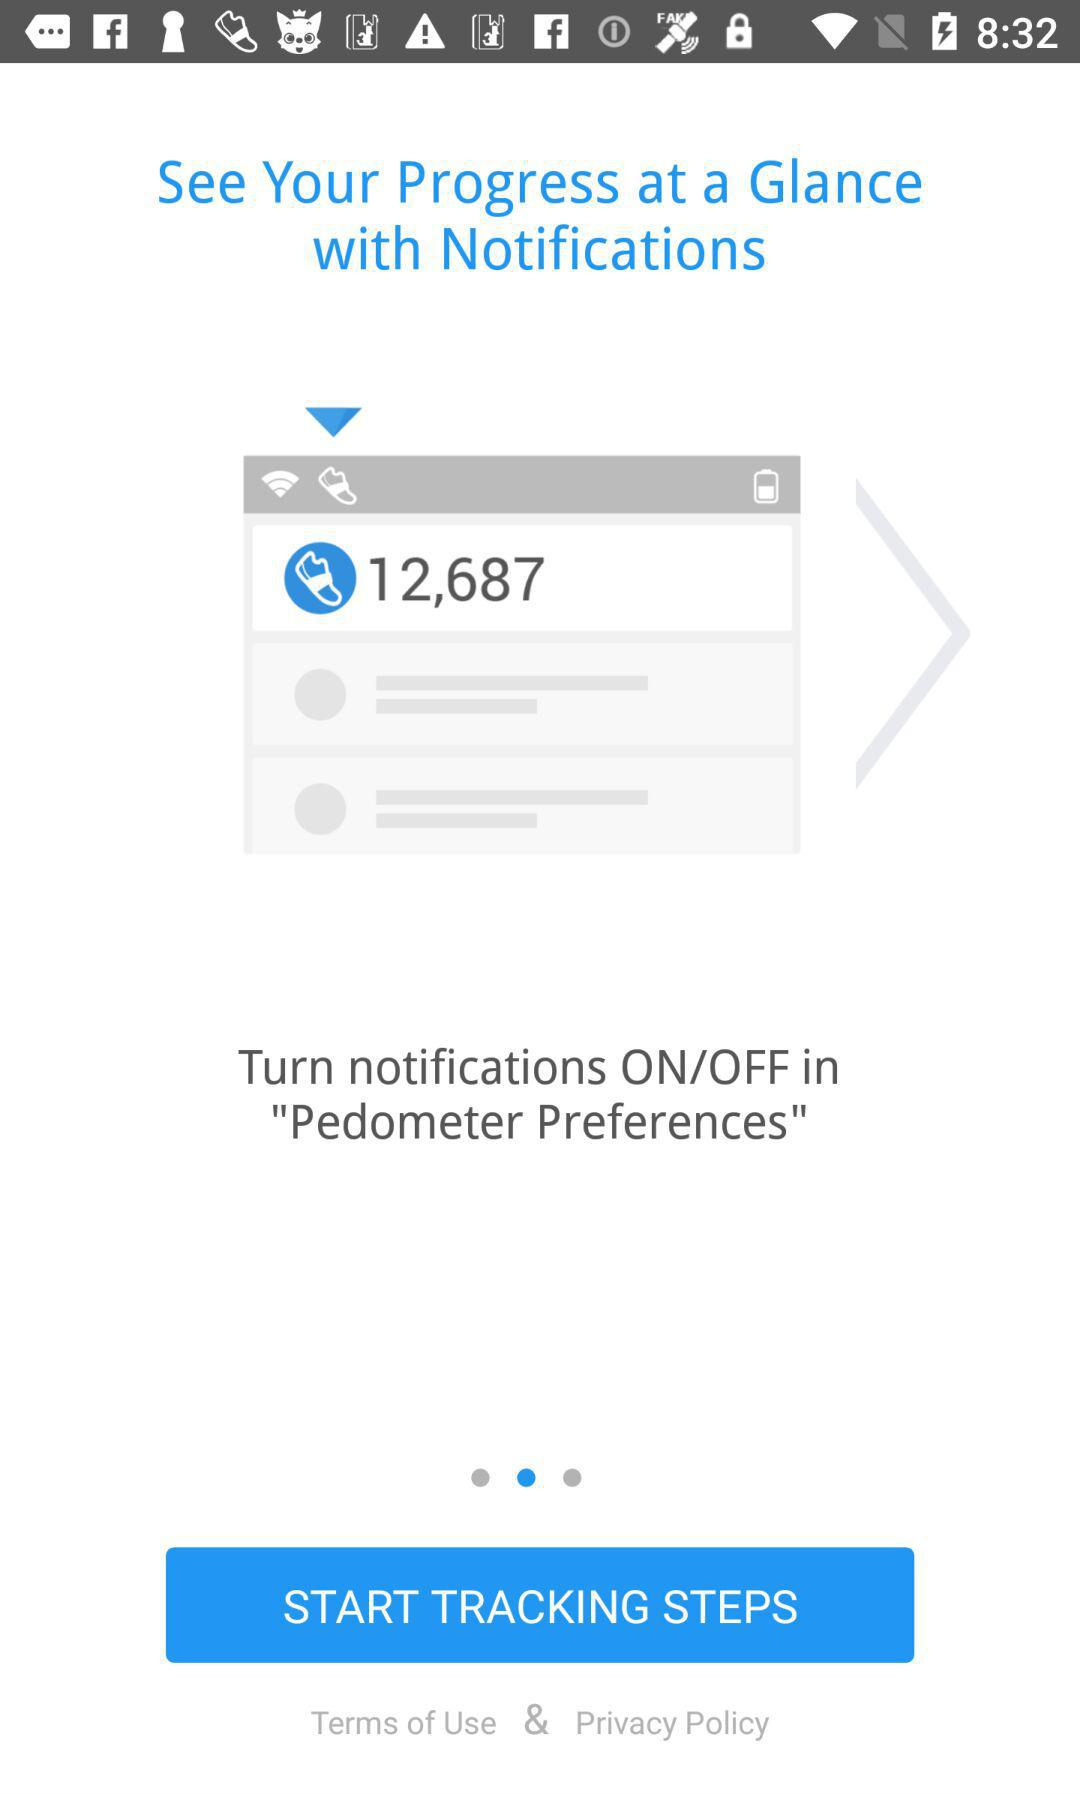Icon: (853, 475, 975, 789)
Image: (242, 407, 808, 850)
PageIndicator: (470, 1465, 584, 1492)
Text: (158, 156, 922, 276), (238, 1041, 839, 1146), (310, 1700, 770, 1741)
TextButton: (165, 1545, 915, 1665)
UpperTaskBar: (1, 1, 1080, 64)
